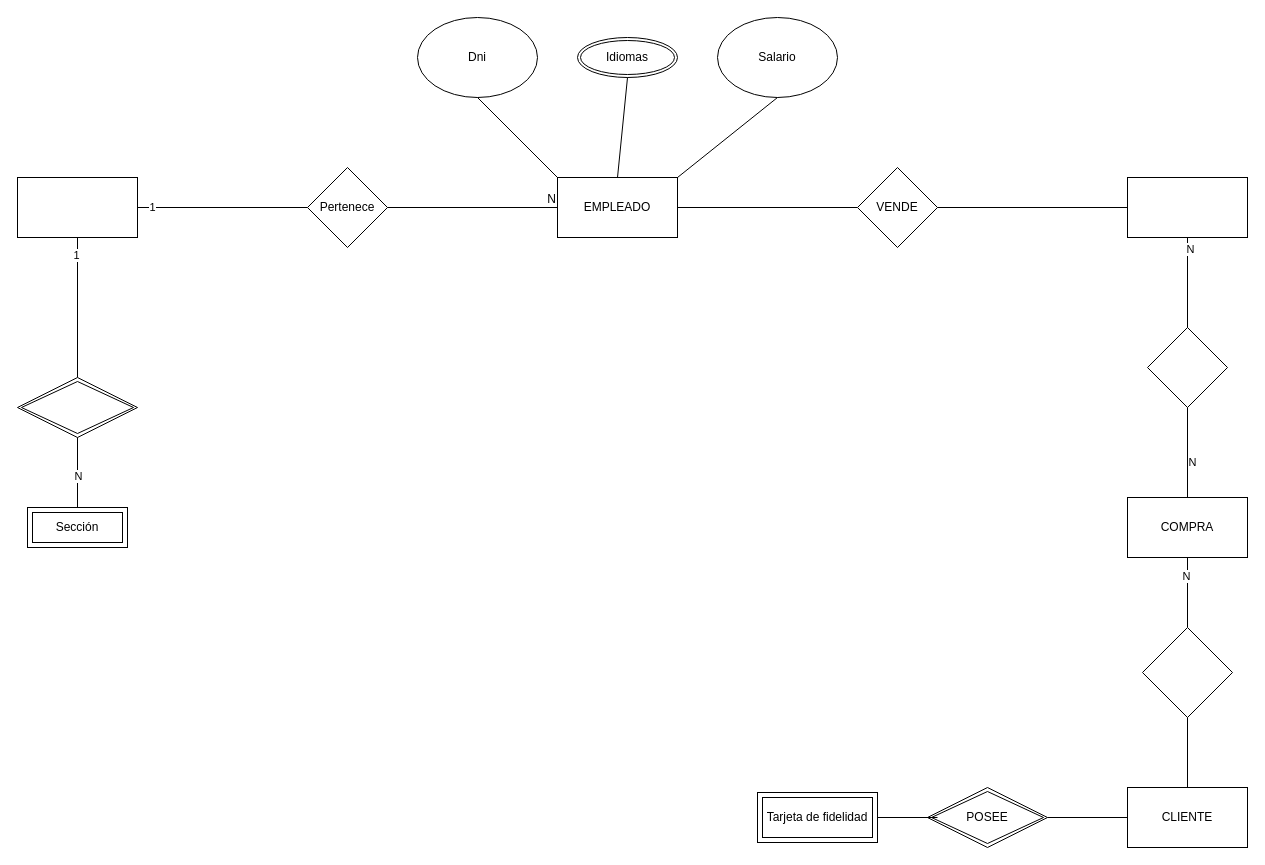
The diagram is 1265 pixels wide and 865 high, and some of its shapes have lost their labels. Each missing label, with the box of its shape:
Incluye: (1146, 326, 1228, 408)
PRODUCTO: (1126, 176, 1248, 238)
Realiza: (1142, 626, 1232, 718)
Sucursales: (16, 176, 138, 238)
Tiene: (16, 376, 138, 438)
